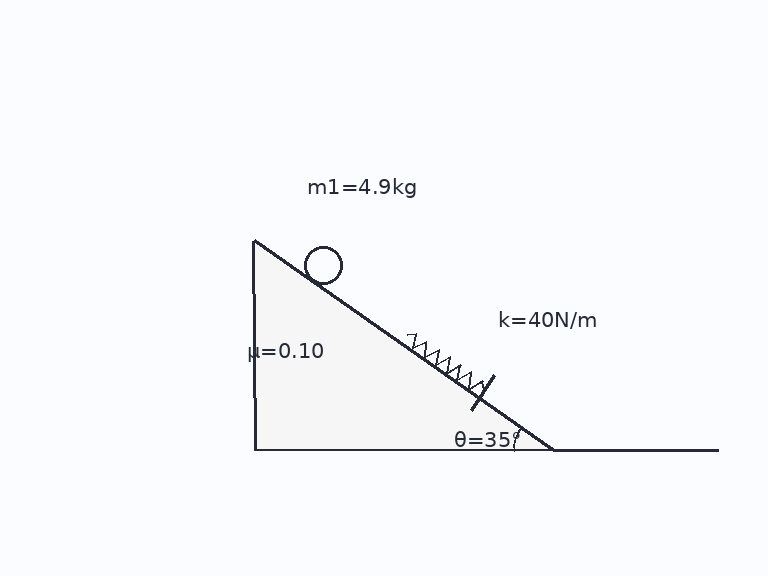ball: (302, 244, 344, 286)
ramp: (252, 238, 556, 452)
spring: (404, 332, 486, 392)
